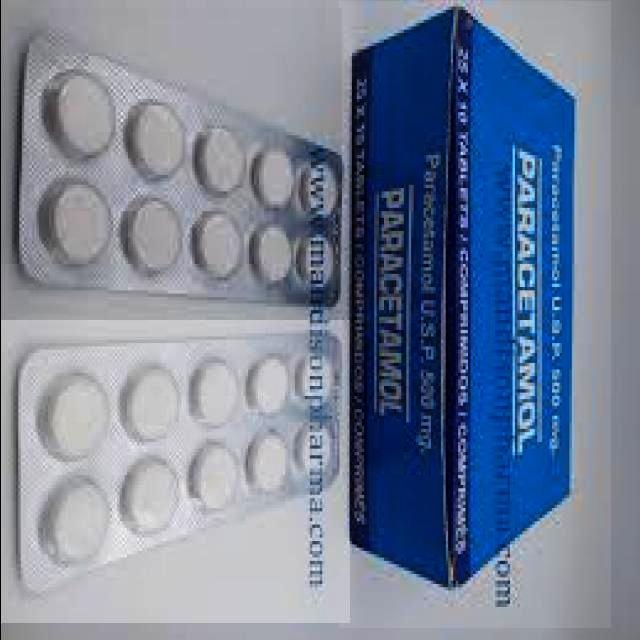authentic: (338, 1, 610, 628), (0, 320, 349, 623), (7, 8, 340, 314)
